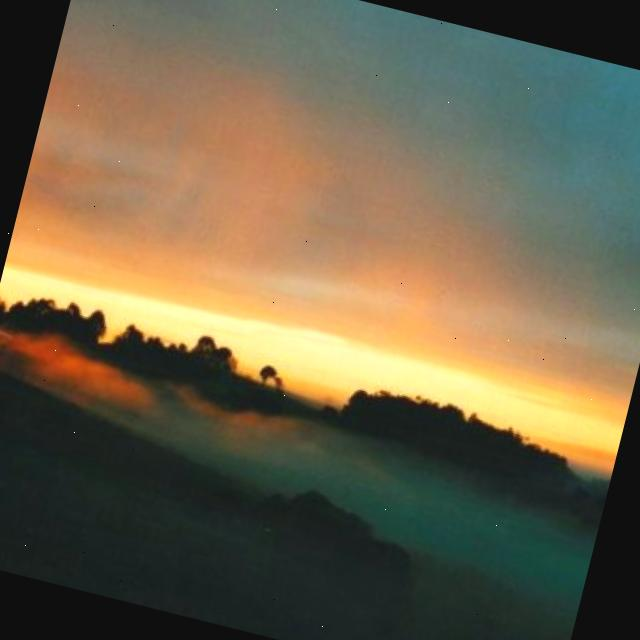Ns: (3, 1, 640, 427)
